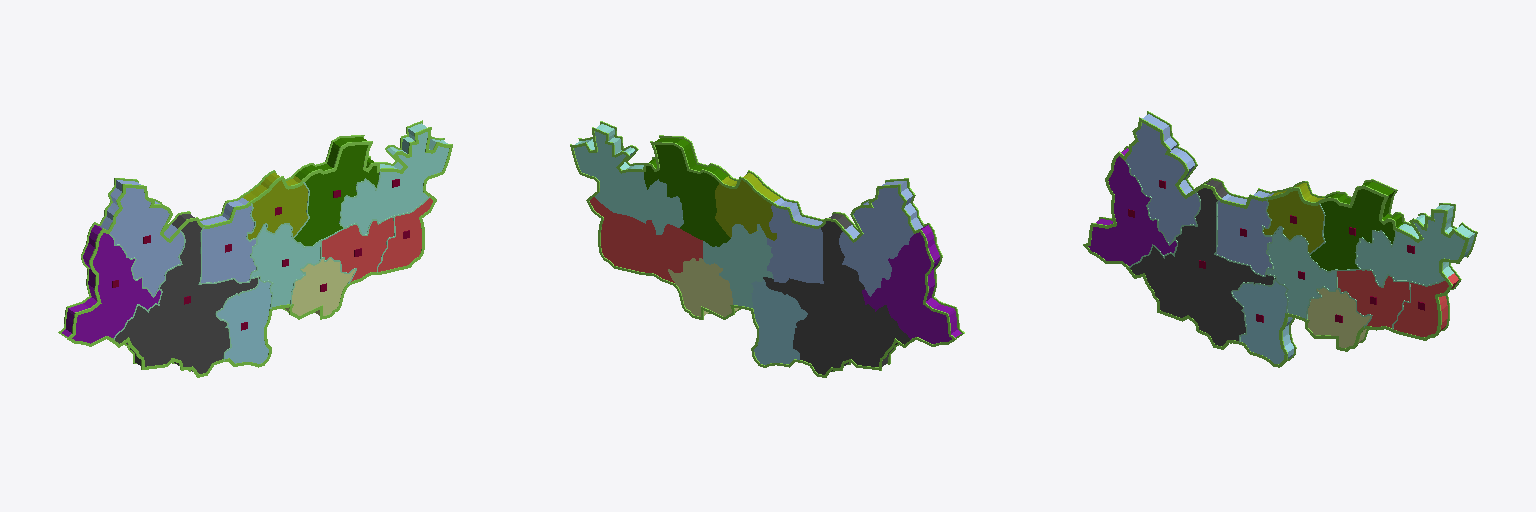
Rendered from deqing04.obj.
The picture shows the model from 3 angles: view 1: azimuth 30°, elevation 25°; view 2: azimuth 150°, elevation 25°; view 3: azimuth 330°, elevation 25°; orthographic projection.
Parts seen in each view (by area): view 1: wukang, top_border, xinshi, fatou, moganshan, zhongguan, buxi, qiyuan, xiazhuhu, xinan, leidian, luoshe (+6 smaller); view 2: wukang_bottom, fatou_bottom, xinshi_bottom, moganshan_bottom, zhongguan_bottom, bottom_border, buxi_bottom, qiyuan_bottom, xiazhuhu_bottom, xinan_bottom, luoshe_bottom, leidian_bottom (+2 smaller); view 3: wukang, top_border, xinshi, fatou, moganshan, zhongguan, buxi, qiyuan, xiazhuhu, xinan, leidian, luoshe (+6 smaller).
Boxes of the visible parts, <box> form: wukang: <box>115,221,259,373</box>; top_border: <box>67,127,452,377</box>; xinshi: <box>341,132,448,234</box>; fatou: <box>72,233,160,343</box>; moganshan: <box>110,188,183,295</box>; zhongguan: <box>294,145,378,245</box>; buxi: <box>201,206,255,282</box>; qiyuan: <box>251,224,319,306</box>; xiazhuhu: <box>217,280,271,363</box>; xinan: <box>322,218,393,281</box>; leidian: <box>292,258,354,315</box>; luoshe: <box>248,180,307,239</box>; wukang_bottom: <box>763,214,909,374</box>; fatou_bottom: <box>862,225,961,343</box>; xinshi_bottom: <box>574,124,683,234</box>; moganshan_bottom: <box>839,181,922,296</box>; zhongguan_bottom: <box>644,138,730,246</box>; bottom_border: <box>570,127,956,377</box>; buxi_bottom: <box>767,198,823,283</box>; qiyuan_bottom: <box>703,224,773,307</box>; xiazhuhu_bottom: <box>751,280,807,364</box>; xinan_bottom: <box>629,217,702,282</box>; luoshe_bottom: <box>715,173,779,240</box>; leidian_bottom: <box>668,258,738,316</box>; wukang: <box>1130,188,1275,345</box>; top_border: <box>1083,117,1469,367</box>; xinshi: <box>1356,213,1464,285</box>; fatou: <box>1088,156,1176,265</box>; moganshan: <box>1126,123,1199,243</box>; zhongguan: <box>1310,189,1394,270</box>; buxi: <box>1216,199,1271,275</box>; qiyuan: <box>1267,227,1335,318</box>; xiazhuhu: <box>1233,281,1286,363</box>; xinan: <box>1337,270,1409,327</box>; leidian: <box>1308,288,1370,347</box>; luoshe: <box>1263,191,1323,252</box>.
Bounding box in the file's own units: 85.89 × 45.97 × 3.71.